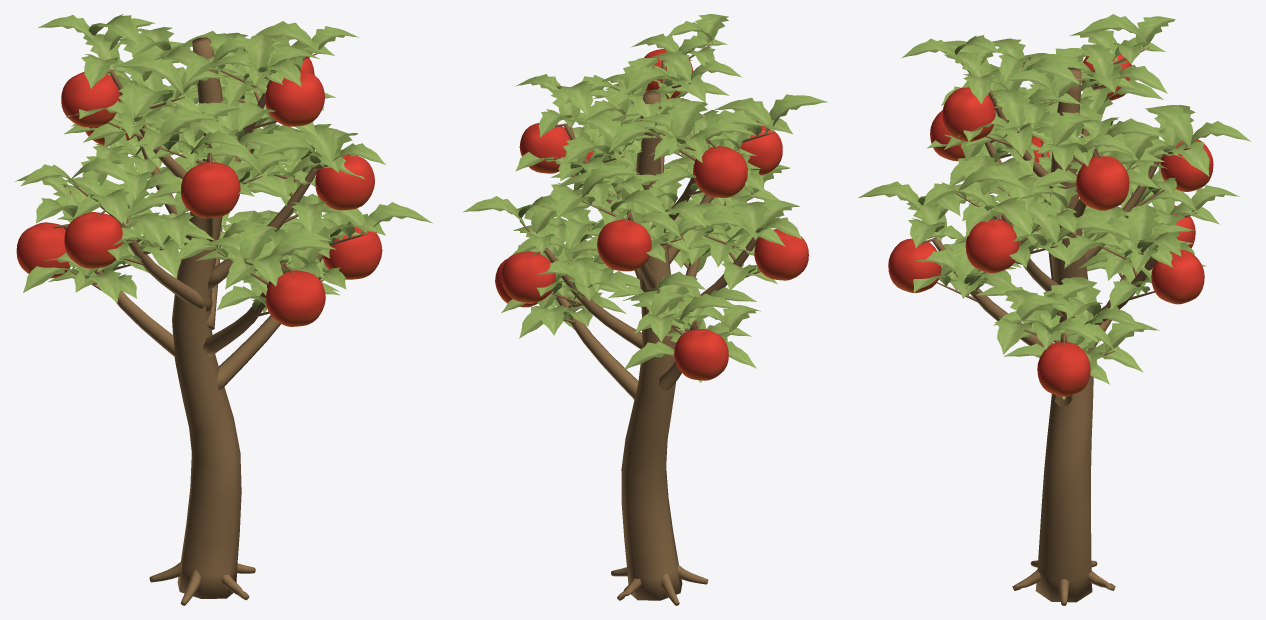
The model's file is apple_mature.glb.
3 renders of one model, left to right at view 1: azimuth 30°, elevation 25°; view 2: azimuth 150°, elevation 25°; view 3: azimuth 270°, elevation 25°, orthographic. The views are drawn at different scales.
Visible parts, largest first — view 1: leaves.001, stems.001, fruit; view 2: leaves.001, stems.001, fruit; view 3: leaves.001, stems.001, fruit.
Boxes of the visible parts, bbox=[...] form: leaves.001: bbox=[15, 14, 432, 312]; stems.001: bbox=[51, 37, 367, 605]; fruit: bbox=[16, 56, 382, 326]; leaves.001: bbox=[463, 14, 827, 382]; stems.001: bbox=[519, 43, 777, 605]; fruit: bbox=[495, 49, 808, 380]; leaves.001: bbox=[858, 14, 1250, 399]; stems.001: bbox=[922, 47, 1197, 605]; fruit: bbox=[888, 54, 1213, 396].
Size of the model in its own units: 1.14 by 1.73 by 1.12.
